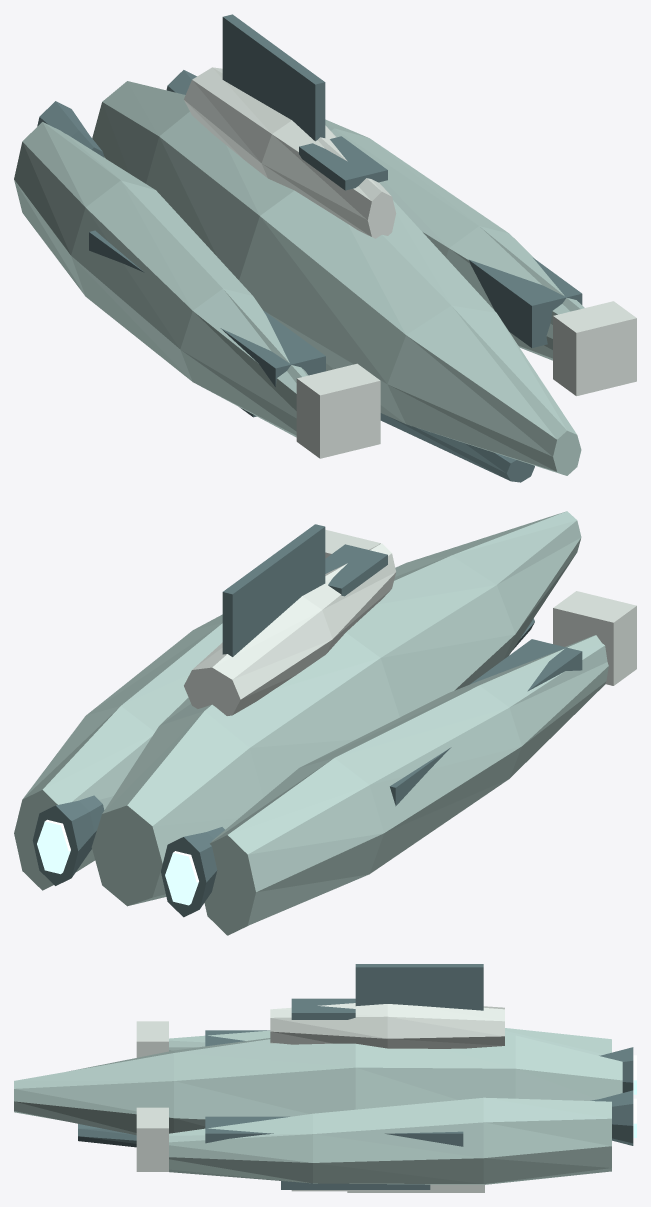
3 renders of one model, top to bottom at view 1: azimuth 30°, elevation 25°; view 2: azimuth 150°, elevation 25°; view 3: azimuth 270°, elevation 25°, orthographic. The views are drawn at different scales.
Bounding box in the file's own units: 6.77 × 5.49 × 15.45.
